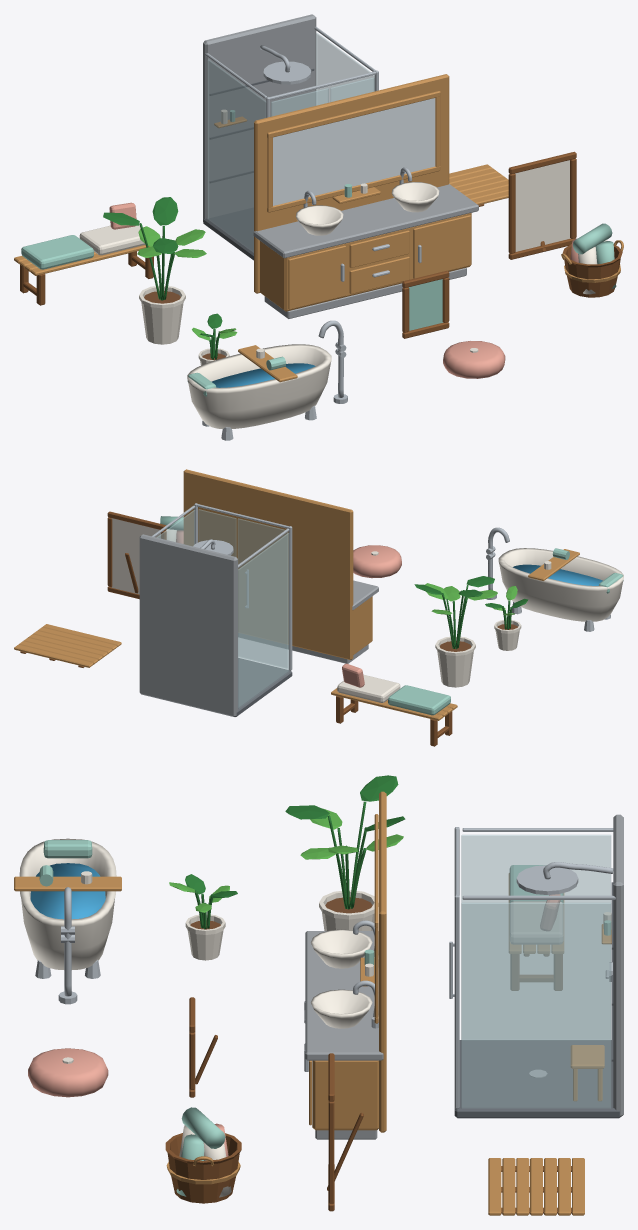
File: spa-bathroom-set.glb
The picture shows the model from 3 angles, top to bottom: view 1: azimuth 30°, elevation 25°; view 2: azimuth 150°, elevation 25°; view 3: azimuth 270°, elevation 25°; orthographic projection. The views are drawn at different scales.
Parts seen in each view (by area): view 1: Shower_BackWall, Vanity_Mirror, Shower_Glass_L, Tub_Body, Vanity_Back, Vanity_Counter, PictureFrame_Large_Canvas, SpaBench, Vanity_Cabinet, VanityDoor_R, Vanity, VanityDoor_L (+24 smaller); view 2: Vanity_Back, Shower_BackWall, Shower_Glass_L, ShowerDoor, Tub_Body, SpaBench, BathMat, PictureFrame_Large_Canvas, Shower_Tray, Plant_Tall, FloorCushion_Body, Plant_Tall_Pot (+12 smaller); view 3: Shower_Glass_R, Shower_Glass_L, Shower_Tray, Tub_Body, BathMat, Vanity_Counter, Vanity_Cabinet, Plant_Tall, Shower_BackWall, FloorCushion_Body, SpaBench, TowelBasket_Basket (+21 smaller).
Boxes of the visible parts, x1,y1,x2,y2 form: Shower_BackWall: [203, 14, 316, 221]; Vanity_Mirror: [273, 98, 435, 205]; Shower_Glass_L: [207, 59, 266, 252]; Tub_Body: [187, 344, 331, 428]; Vanity_Back: [254, 74, 449, 293]; Vanity_Counter: [253, 184, 478, 258]; PictureFrame_Large_Canvas: [515, 160, 570, 251]; SpaBench: [14, 225, 149, 275]; Vanity_Cabinet: [260, 213, 471, 311]; VanityDoor_R: [413, 215, 471, 278]; Vanity: [267, 91, 440, 212]; VanityDoor_L: [288, 245, 345, 309]; Vanity_Back: [183, 469, 353, 659]; Shower_BackWall: [139, 534, 237, 716]; Shower_Glass_L: [238, 533, 289, 708]; ShowerDoor: [237, 518, 287, 668]; Tub_Body: [498, 548, 623, 621]; SpaBench: [331, 674, 457, 720]; BathMat: [14, 624, 121, 667]; PictureFrame_Large_Canvas: [111, 518, 160, 594]; Shower_Tray: [235, 658, 292, 716]; Plant_Tall: [414, 576, 497, 649]; FloorCushion_Body: [353, 545, 401, 578]; Plant_Tall_Pot: [435, 636, 475, 687]; Shower_Glass_R: [461, 902, 611, 1108]; Shower_Glass_L: [461, 834, 611, 1039]; Shower_Tray: [454, 1040, 620, 1118]; Tub_Body: [19, 838, 116, 969]; BathMat: [488, 1158, 584, 1215]; Vanity_Counter: [305, 931, 383, 1060]; Vanity_Cabinet: [312, 1060, 378, 1130]; Plant_Tall: [285, 775, 405, 909]; Shower_BackWall: [613, 814, 623, 1117]; FloorCushion_Body: [28, 1048, 108, 1097]; SpaBench: [508, 865, 564, 956]; TowelBasket_Basket: [165, 1133, 241, 1203].
Bounding box in the file's own units: 23.84 × 8.41 × 19.74.
